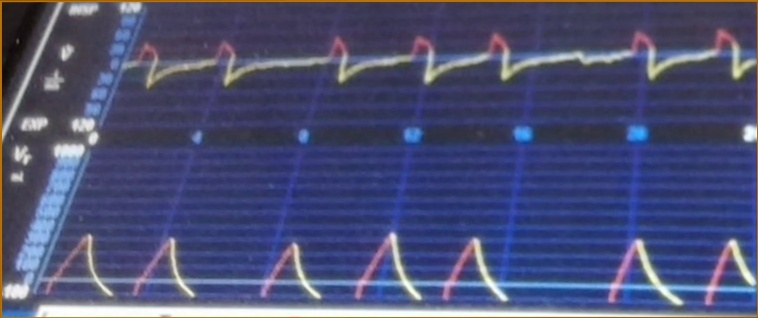Ineffective_effort Flow: (130, 25, 756, 117)
Ineffective_effort Volume: (46, 219, 758, 306)
